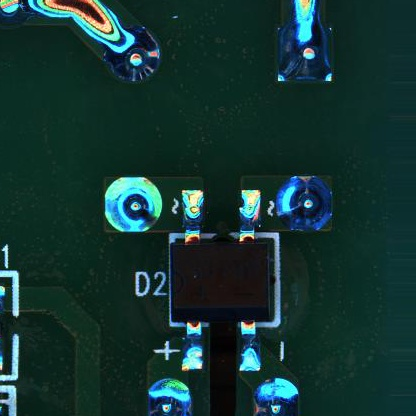spot: (105, 175, 166, 235), (104, 24, 163, 83), (276, 26, 335, 83), (277, 174, 332, 233)
